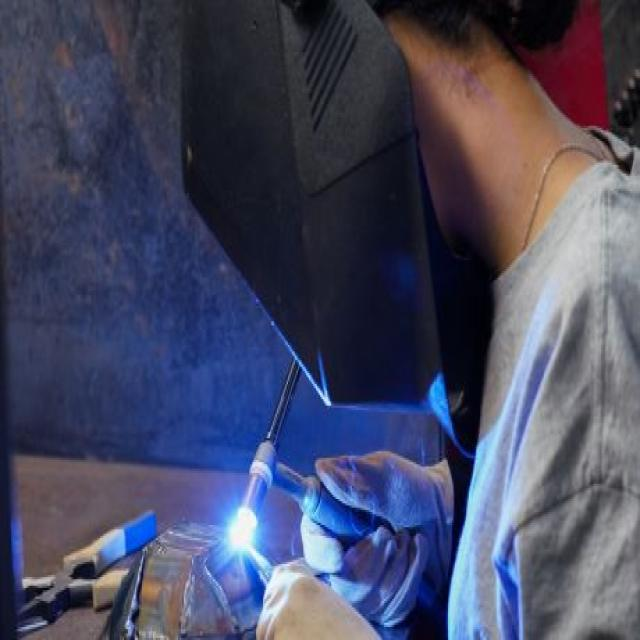welding: (228, 511, 262, 552)
